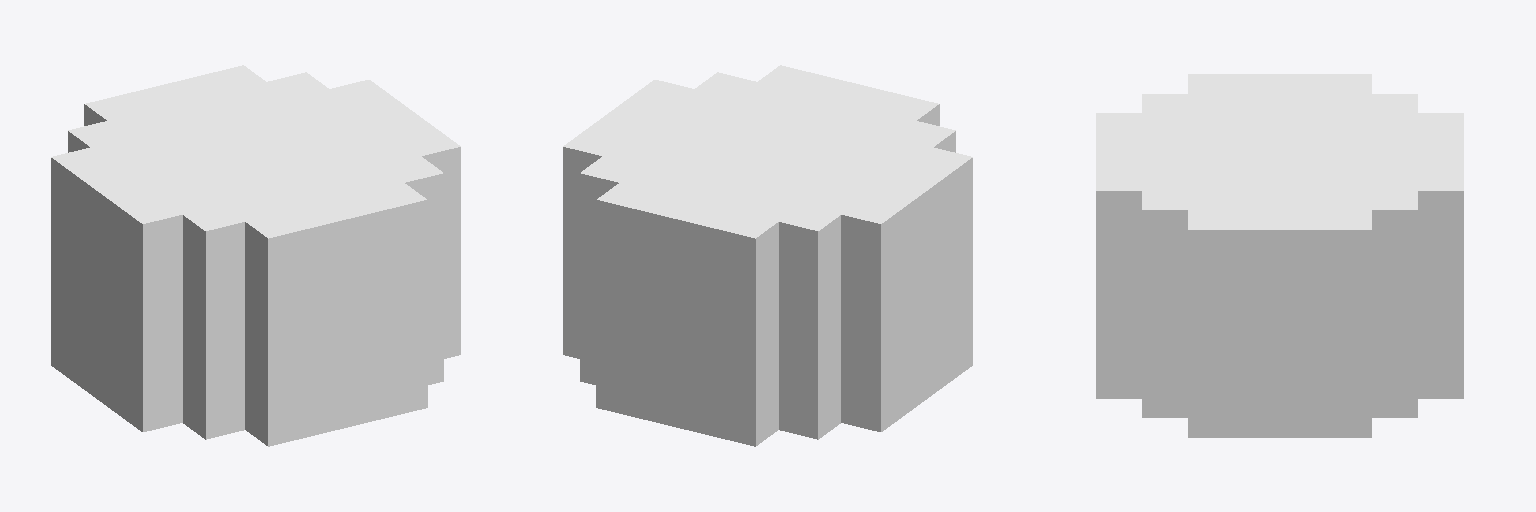
The model's file is llantita.obj.
3 renders of one model, left to right at view 1: azimuth 30°, elevation 25°; view 2: azimuth 150°, elevation 25°; view 3: azimuth 270°, elevation 25°, orthographic.
Parts seen in each view (by area): view 1: llantita_no_lonja; view 2: llantita_no_lonja; view 3: llantita_no_lonja.
Part boxes in pixels (x1,y1,x2,y2): llantita_no_lonja: (51,65,460,446); llantita_no_lonja: (563,65,972,446); llantita_no_lonja: (1096,74,1463,437).
Size of the model in its own units: 0.8 by 0.5 by 0.8.